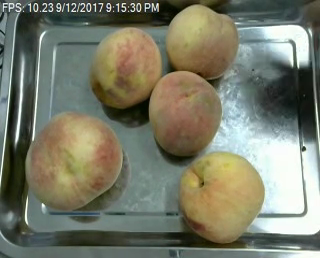Peach: (26, 110, 122, 211), (176, 151, 264, 243), (149, 69, 222, 157), (89, 25, 162, 108), (166, 3, 238, 79)
